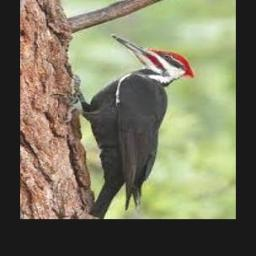Woodpecker: (56, 34, 195, 218)
